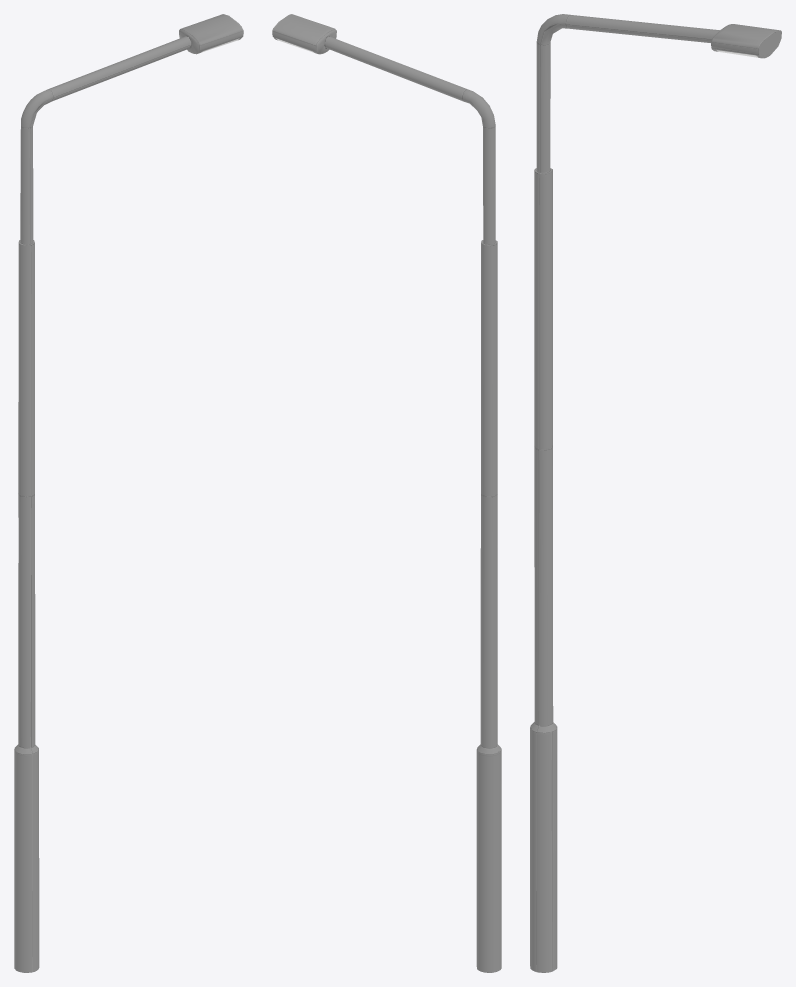
File: poste_ponte.glb
3 renders of one model, left to right at view 1: azimuth 30°, elevation 25°; view 2: azimuth 150°, elevation 25°; view 3: azimuth 330°, elevation 25°, orthographic. The views are drawn at different scales.
Parts seen in each view (by area): view 1: poste; view 2: poste; view 3: poste.
Part boxes in pixels (x1,y1,x2,y2): poste: (14, 14, 243, 972); poste: (272, 14, 501, 972); poste: (530, 14, 781, 972).
Bounding box in the file's own units: 1.57 × 6.22 × 0.2663.
Materials: 1 (1 with a texture image).
